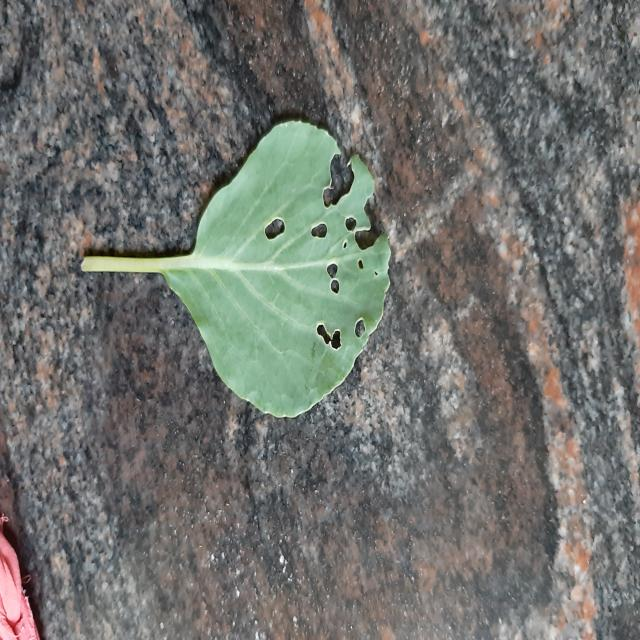Kohlrabi: (81, 120, 390, 418)
